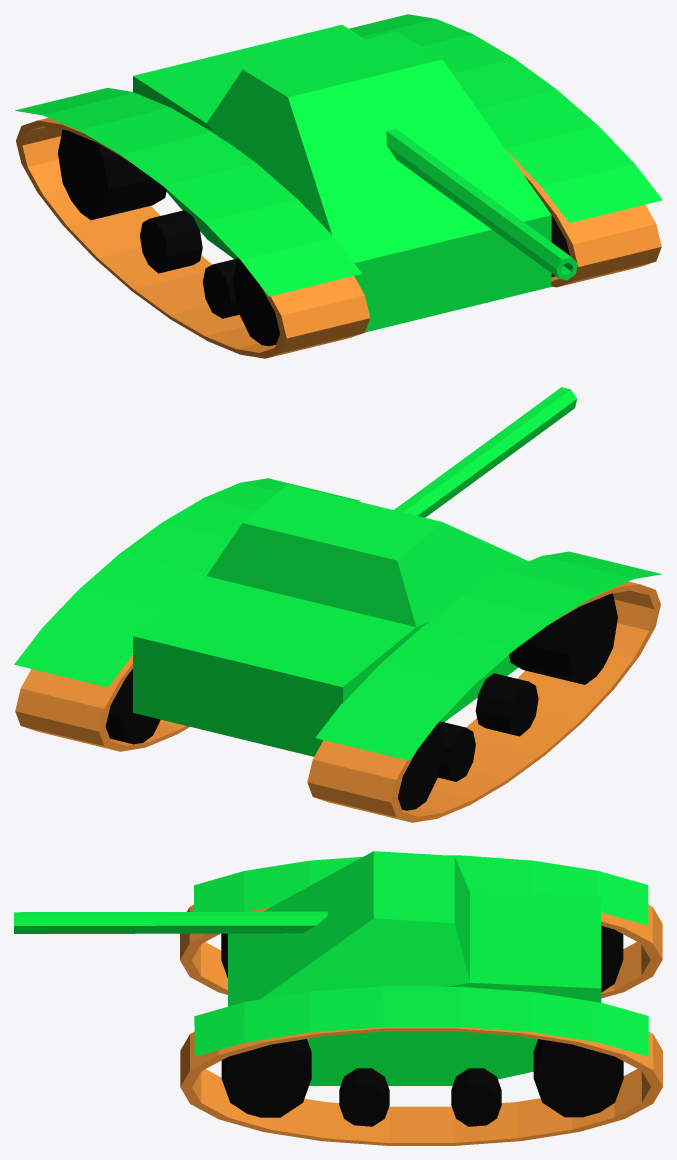
The model's file is tank_green.glb.
3 renders of one model, top to bottom at view 1: azimuth 30°, elevation 25°; view 2: azimuth 150°, elevation 25°; view 3: azimuth 270°, elevation 25°, orthographic. The views are drawn at different scales.
Parts seen in each view (by area): view 1: Cube.001, Cylinder.002, Cylinder.001, Cylinder.011, Cylinder.005, Cylinder.010, Cylinder.004, Cylinder.003, Cylinder.012, Cylinder.009; view 2: Cube.001, Cylinder.002, Cylinder.001, Cylinder.011, Cylinder.005, Cylinder.012, Cylinder.004, Cylinder.009, Cylinder.010, Cylinder.006, Cylinder.003; view 3: Cube.001, Cylinder.001, Cylinder.005, Cylinder.002, Cylinder.004, Cylinder, Cylinder.006, Cylinder.011, Cylinder.008, Cylinder.007, Cylinder.010.
Part boxes in pixels (x1,y1,x2,y2): Cube.001: (133, 24, 551, 332); Cylinder.002: (15, 88, 361, 296); Cylinder.001: (349, 14, 662, 222); Cylinder.011: (16, 118, 370, 358); Cylinder.005: (506, 150, 661, 287); Cylinder.010: (58, 129, 166, 220); Cylinder.004: (386, 128, 577, 280); Cylinder.003: (140, 210, 202, 273); Cylinder.012: (233, 257, 279, 346); Cylinder.009: (202, 258, 239, 318); Cube.001: (133, 484, 528, 756); Cylinder.002: (315, 551, 661, 760); Cylinder.001: (14, 478, 360, 687); Cylinder.011: (307, 581, 660, 822); Cylinder.005: (15, 655, 189, 751); Cylinder.012: (509, 593, 617, 684); Cylinder.004: (394, 387, 576, 517); Cylinder.009: (475, 673, 538, 736); Cylinder.010: (397, 723, 443, 810); Cylinder.006: (105, 669, 160, 744); Cylinder.003: (438, 721, 475, 781); Cube.001: (228, 851, 601, 1085); Cylinder.001: (194, 986, 648, 1056); Cylinder.005: (180, 1027, 662, 1145); Cylinder.002: (194, 855, 648, 925); Cylinder.004: (14, 911, 327, 933); Cylinder: (221, 1039, 311, 1117); Cylinder.006: (533, 1039, 623, 1117); Cylinder.011: (180, 904, 662, 998); Cylinder.008: (451, 1068, 501, 1126); Cylinder.007: (339, 1068, 389, 1126); Cylinder.010: (601, 926, 623, 992).
Size of the model in its own units: 0.9959 by 0.4838 by 1.59.
